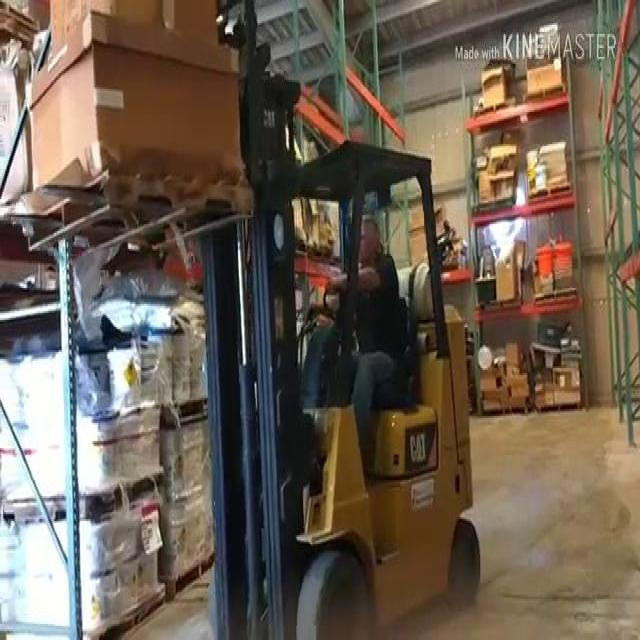box: (16, 21, 262, 208), (0, 546, 178, 628), (0, 407, 119, 510), (0, 516, 158, 572), (0, 345, 83, 444), (42, 0, 170, 62), (155, 478, 221, 588), (102, 343, 183, 420), (161, 418, 222, 507), (474, 336, 531, 421), (467, 133, 523, 217), (111, 407, 167, 482), (167, 324, 216, 404), (522, 46, 571, 114), (527, 140, 576, 207), (487, 235, 531, 309), (162, 0, 225, 50), (534, 368, 592, 420), (474, 52, 515, 114)
forklift: (194, 135, 484, 638)
person: (316, 193, 419, 474)
